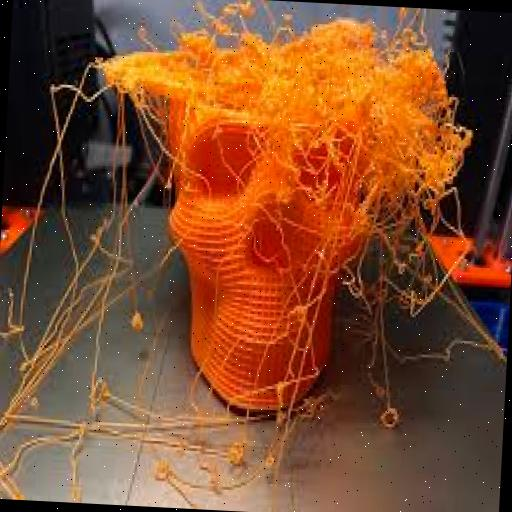spaghetti: (98, 0, 482, 190), (284, 177, 493, 463), (29, 102, 178, 492)
